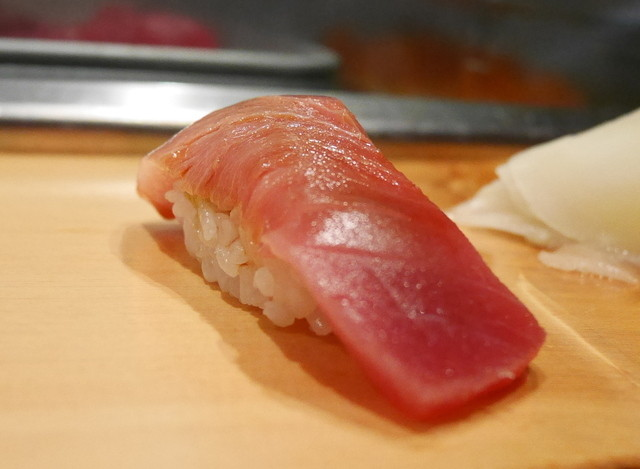medium_fatty_tuna: (133, 93, 545, 426)
